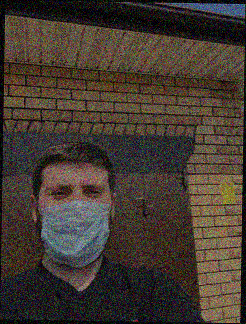with_mask: (37, 172, 112, 270)
